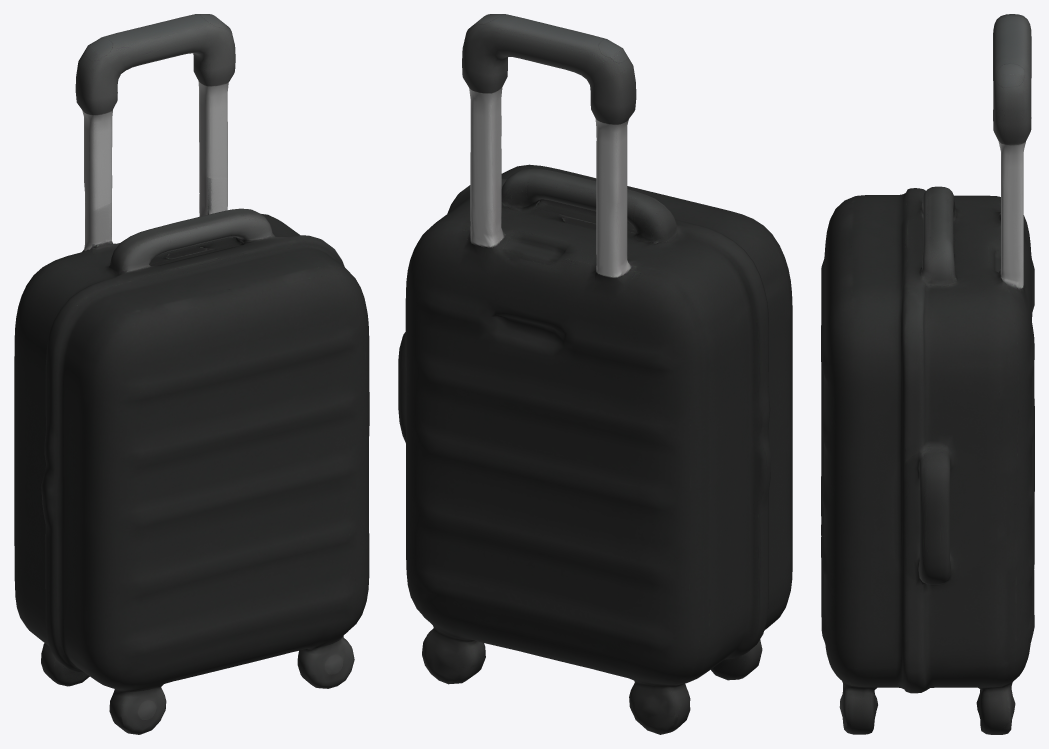
File: Black_Hard_Shell_Carr.glb
3 views of the same model, side by side, from view 1: azimuth 30°, elevation 25°; view 2: azimuth 150°, elevation 25°; view 3: azimuth 270°, elevation 25° (orthographic). The views are drawn at different scales.
Bounding box in the file's own units: 1.05 × 1.91 × 0.575.
Materials: 1 (1 with a texture image).
